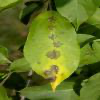Apple Scab Leaf: (22, 10, 82, 93)
